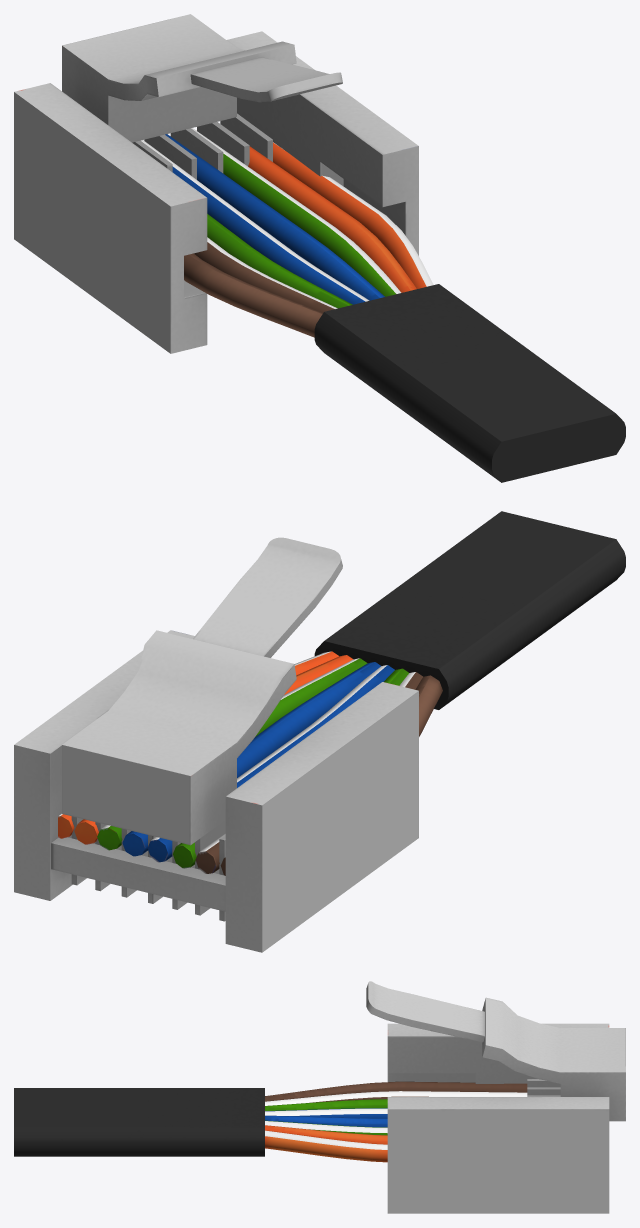
File: LAN.glb
3 renders of one model, top to bottom at view 1: azimuth 30°, elevation 25°; view 2: azimuth 150°, elevation 25°; view 3: azimuth 270°, elevation 25°, orthographic. The views are drawn at different scales.
Parts seen in each view (by area): view 1: LAN; view 2: LAN; view 3: LAN.
Part boxes in pixels (x1,y1,x2,y2): LAN: [14, 14, 625, 482]; LAN: [14, 511, 625, 952]; LAN: [14, 981, 625, 1213].
Size of the model in its own units: 0.1001 by 0.098 by 0.3021.
Materials: 1 (1 with a texture image).
